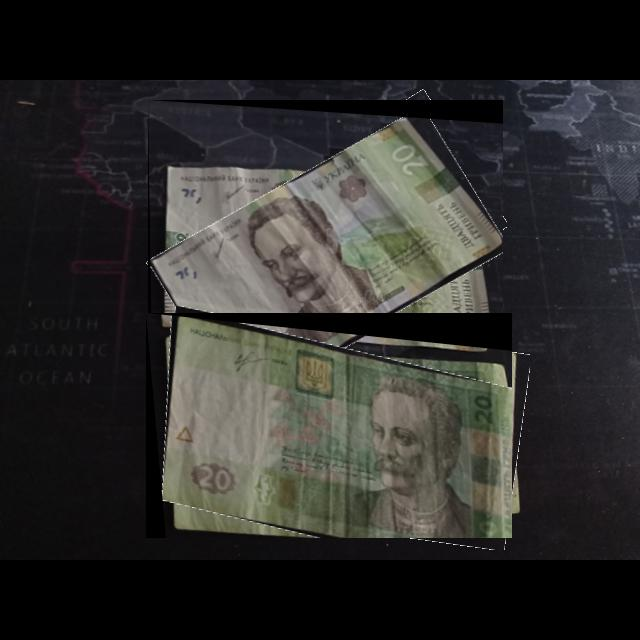20uah: (151, 114, 504, 397), (160, 316, 513, 539)
